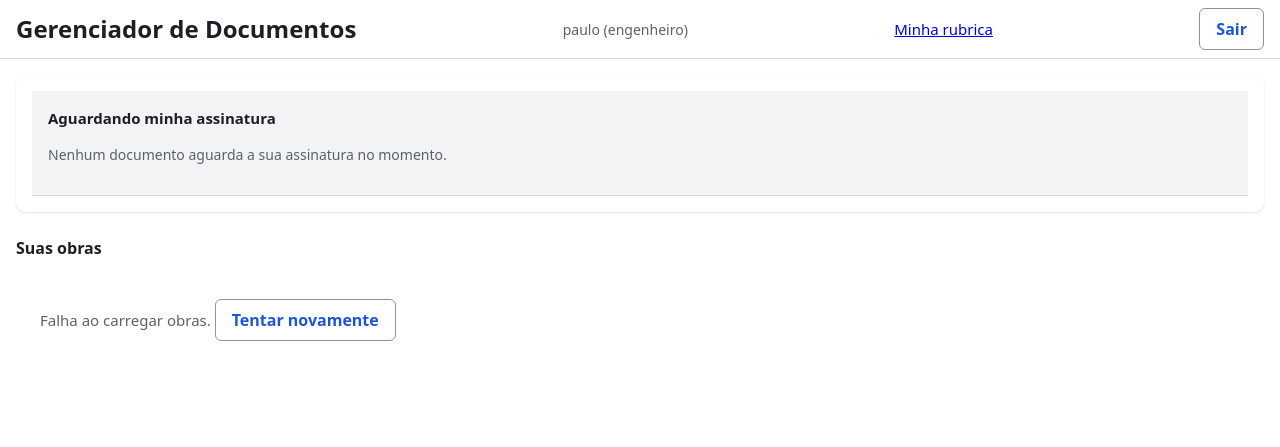
Scenario: painel inicial › permite tentar novamente apos uma falha
Click the button "Tentar novamente": {"x": 305, "y": 320} [215,298,396,340]
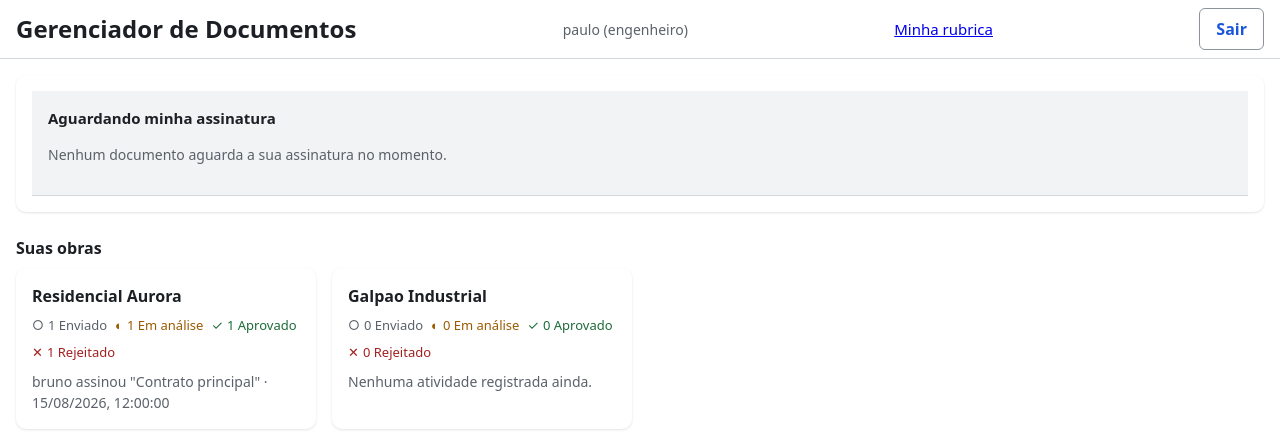
Expected: the link "Residencial Aurora" is shown, [16,268,316,428]
